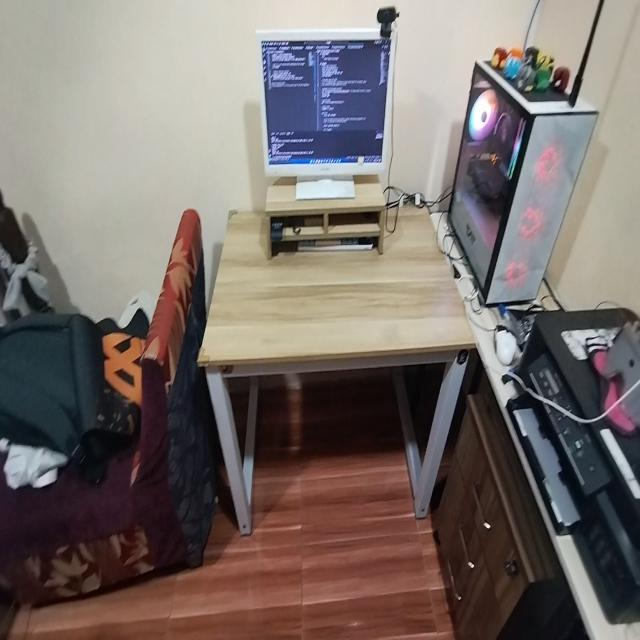table: (193, 205, 476, 528)
